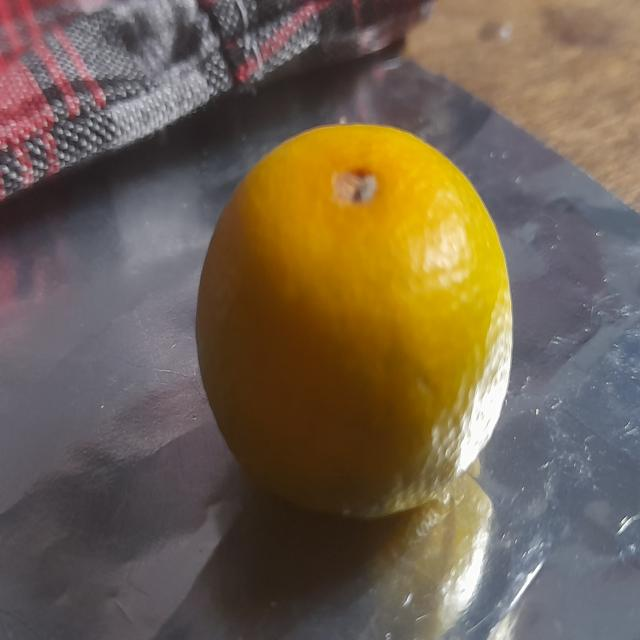greening: (198, 112, 518, 531)
